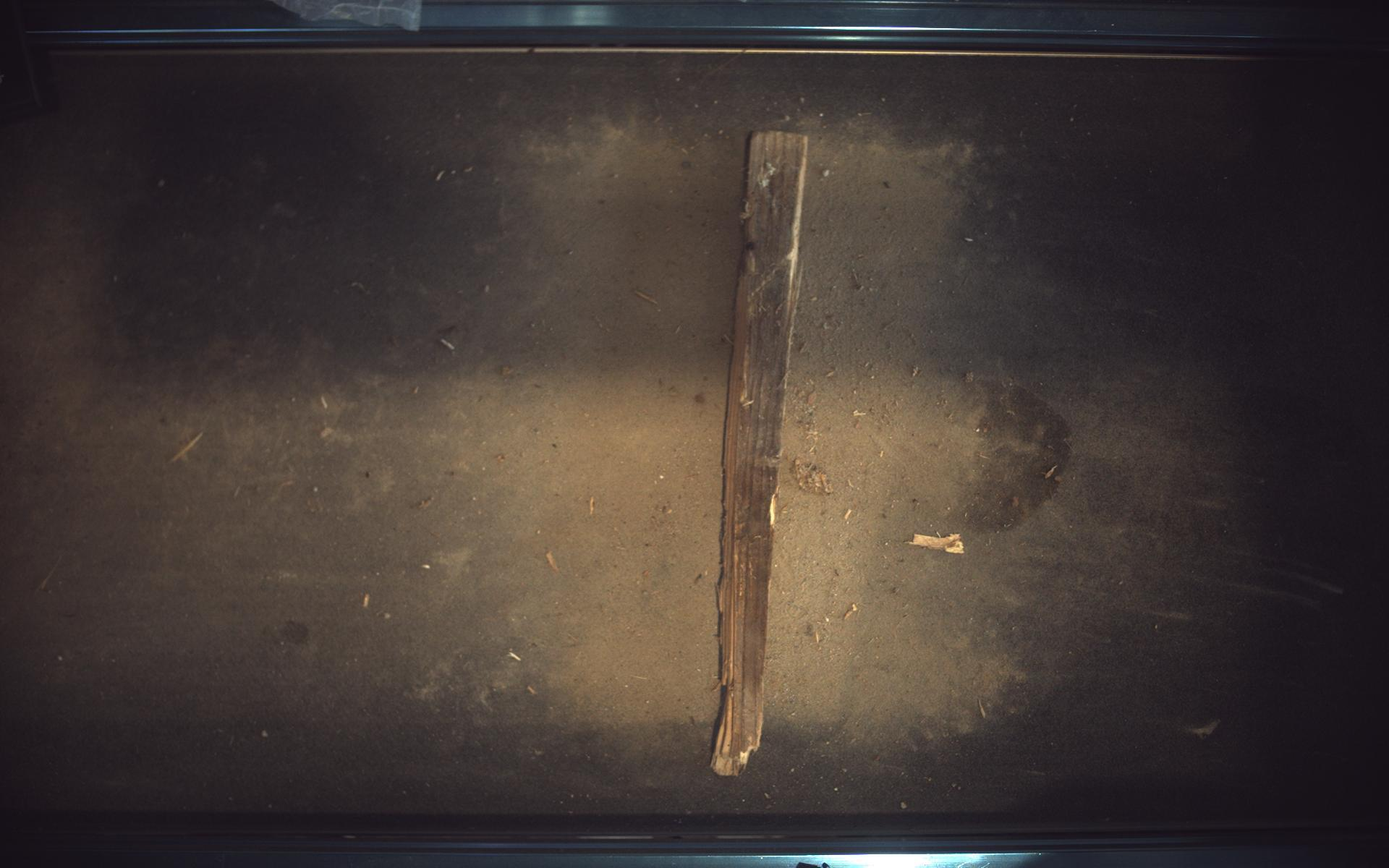wood: (712, 130, 810, 778)
